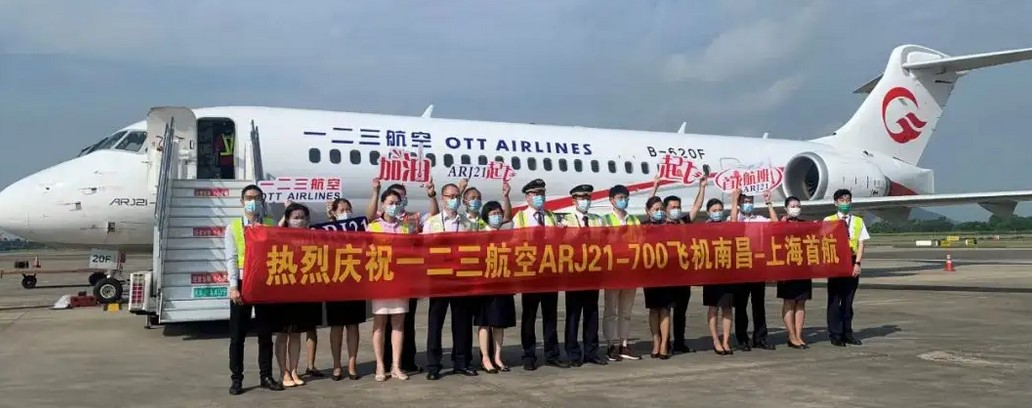plane: (1, 42, 1032, 326)
